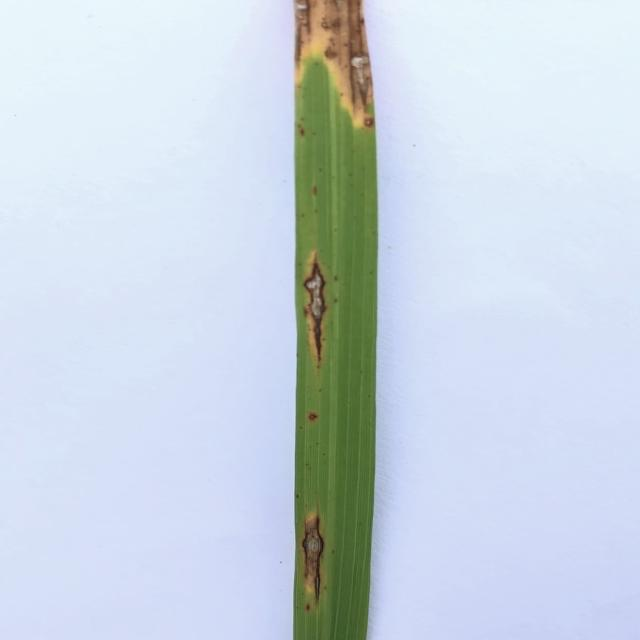leaf blast: (303, 252, 328, 366), (346, 52, 377, 131), (302, 510, 325, 612), (294, 0, 306, 25)
